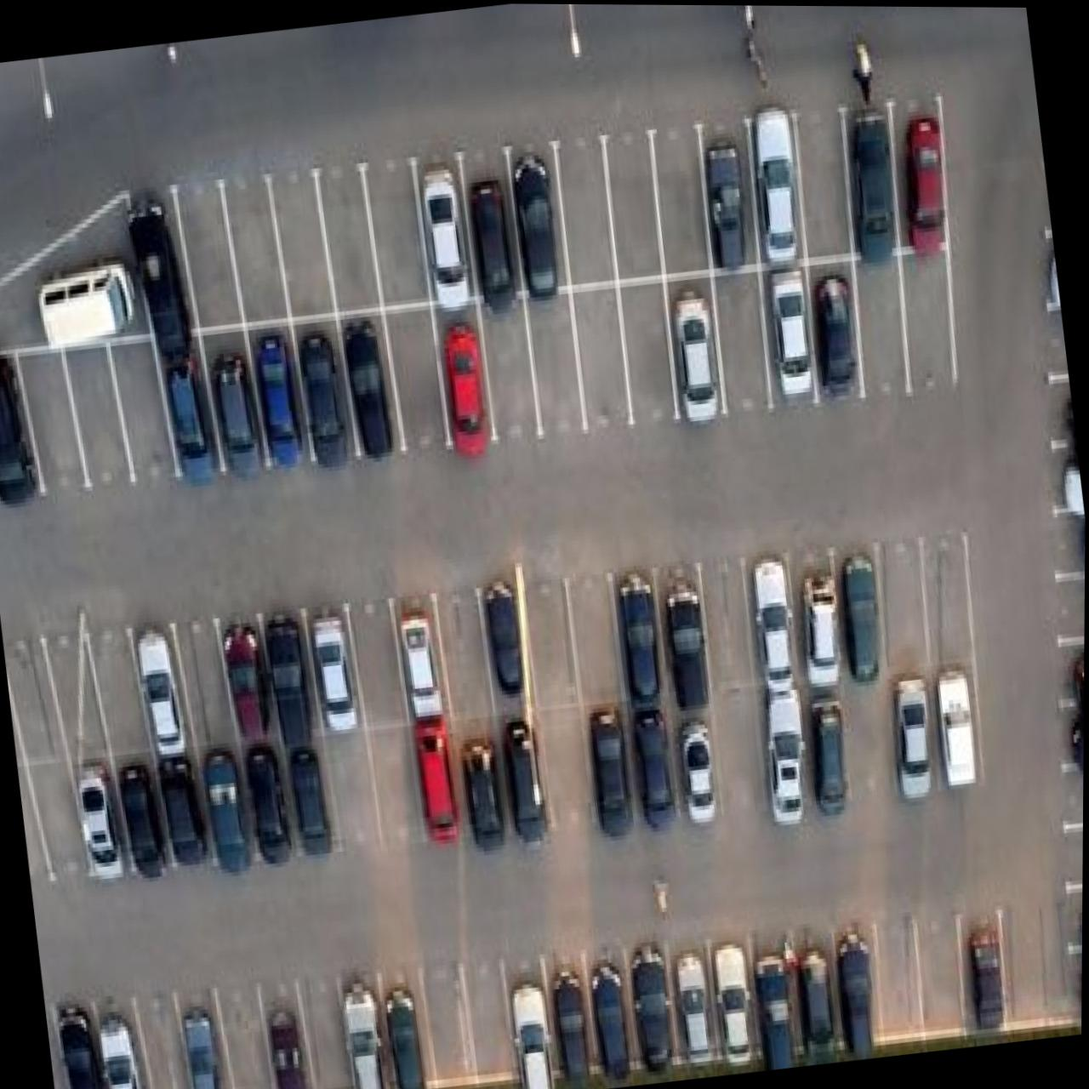cars: (845, 99, 913, 270), (741, 107, 814, 266), (884, 96, 957, 247), (132, 187, 200, 334), (407, 152, 473, 303), (804, 257, 870, 407), (431, 304, 497, 454), (457, 150, 524, 297), (760, 257, 826, 404), (509, 145, 572, 299), (237, 741, 306, 880), (498, 949, 566, 1089), (539, 943, 603, 1089), (744, 929, 809, 1072), (925, 661, 992, 799), (205, 318, 265, 472), (702, 932, 767, 1074), (699, 120, 757, 277), (130, 618, 195, 757), (661, 277, 726, 415), (473, 577, 538, 715), (825, 912, 890, 1050), (577, 946, 642, 1084), (953, 889, 1016, 1031), (626, 927, 685, 1077), (627, 699, 690, 838), (610, 566, 669, 712), (760, 686, 819, 832), (834, 542, 893, 688), (798, 680, 857, 826), (661, 925, 720, 1071), (454, 718, 515, 859), (197, 743, 261, 877), (657, 575, 716, 720), (741, 556, 803, 690), (788, 923, 846, 1065), (263, 610, 323, 747), (374, 963, 439, 1089), (283, 737, 345, 867), (154, 748, 214, 882), (298, 322, 356, 459), (789, 550, 847, 687), (110, 753, 173, 879), (159, 334, 215, 475), (584, 711, 645, 836), (888, 674, 947, 803), (416, 725, 471, 862), (674, 701, 729, 838), (253, 975, 319, 1089), (253, 333, 310, 463), (221, 621, 278, 751), (344, 323, 399, 456), (311, 611, 366, 744), (339, 970, 400, 1089), (501, 713, 554, 846), (0, 334, 41, 501), (75, 764, 130, 885), (175, 987, 239, 1089), (93, 990, 157, 1089), (51, 995, 118, 1089), (403, 603, 452, 727), (1064, 872, 1083, 968), (1065, 942, 1082, 1035)
empty: (598, 127, 667, 286), (178, 175, 245, 333), (315, 167, 381, 321), (651, 128, 717, 278), (225, 170, 287, 328), (383, 299, 448, 449), (851, 250, 920, 390), (363, 163, 431, 305), (799, 111, 860, 269), (875, 545, 941, 691), (903, 255, 972, 394), (614, 284, 685, 419), (270, 167, 332, 320), (705, 692, 772, 831), (70, 342, 133, 488), (115, 337, 174, 490), (369, 721, 432, 863), (553, 133, 614, 279), (523, 289, 587, 427), (480, 298, 543, 437), (920, 533, 984, 668), (24, 343, 83, 489), (322, 728, 386, 862), (568, 284, 630, 422), (563, 571, 625, 709), (437, 584, 496, 729), (46, 622, 106, 764), (293, 970, 362, 1089), (696, 565, 759, 692), (523, 582, 581, 719), (533, 708, 596, 834), (845, 684, 906, 814), (713, 270, 769, 407), (10, 634, 65, 767), (179, 626, 234, 759), (93, 614, 146, 751), (211, 978, 275, 1089), (872, 907, 925, 1041), (915, 904, 971, 1030), (353, 606, 409, 731), (460, 967, 519, 1084), (35, 758, 88, 883), (421, 968, 474, 1089), (137, 997, 198, 1089)
